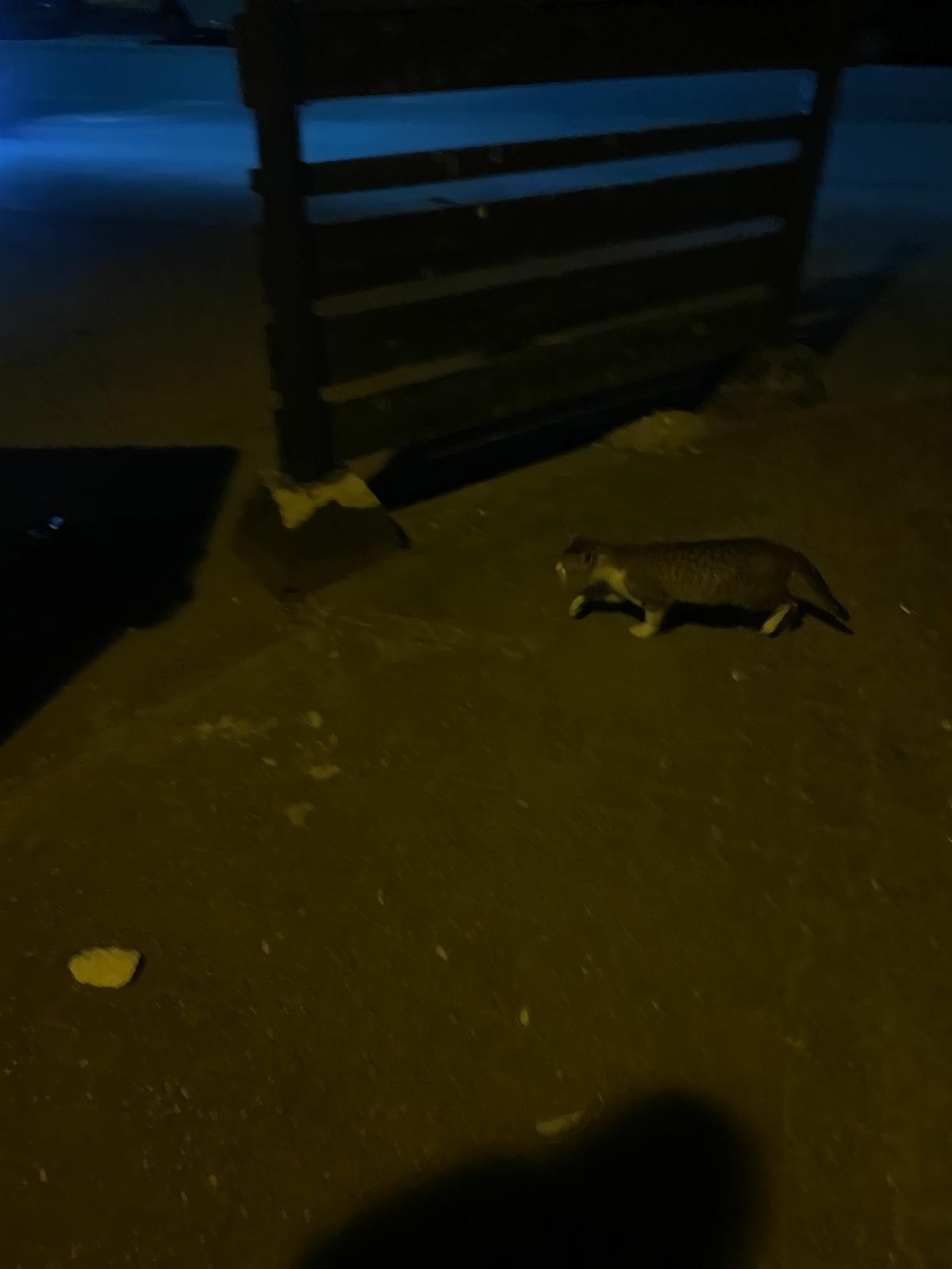macka: (553, 522, 851, 638)
